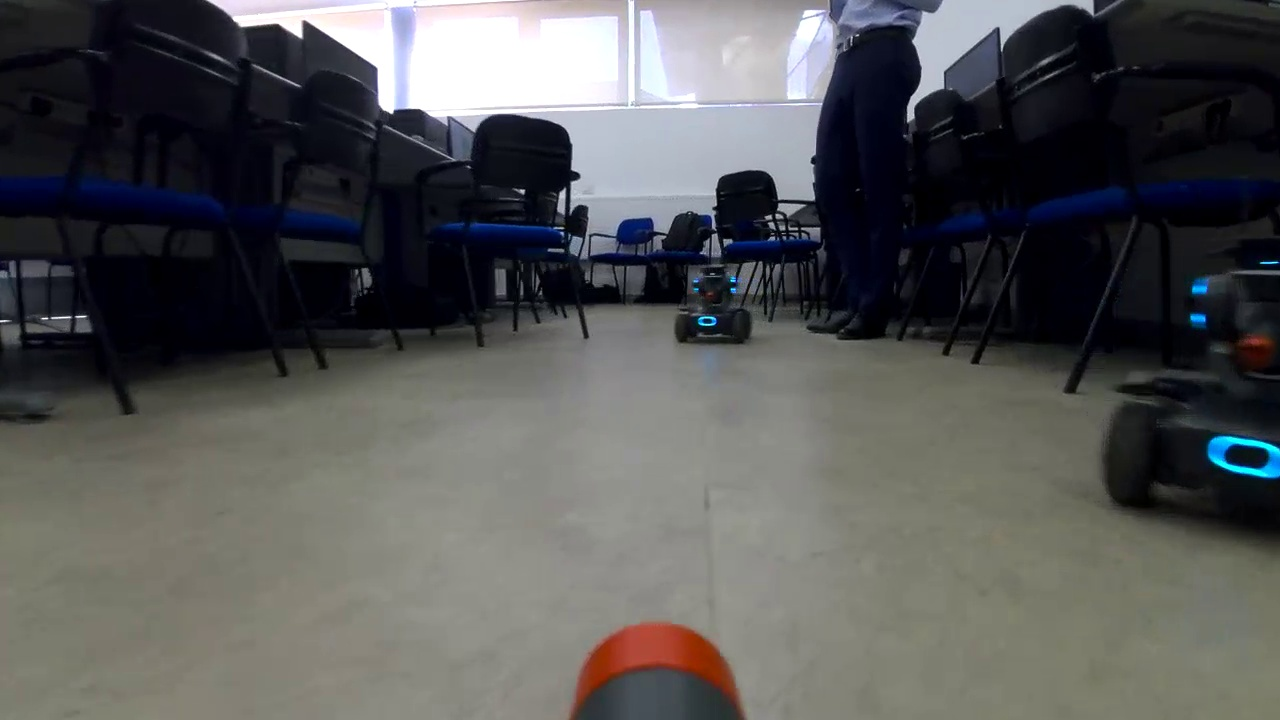robot: (1091, 241, 1280, 542), (667, 264, 759, 348)
